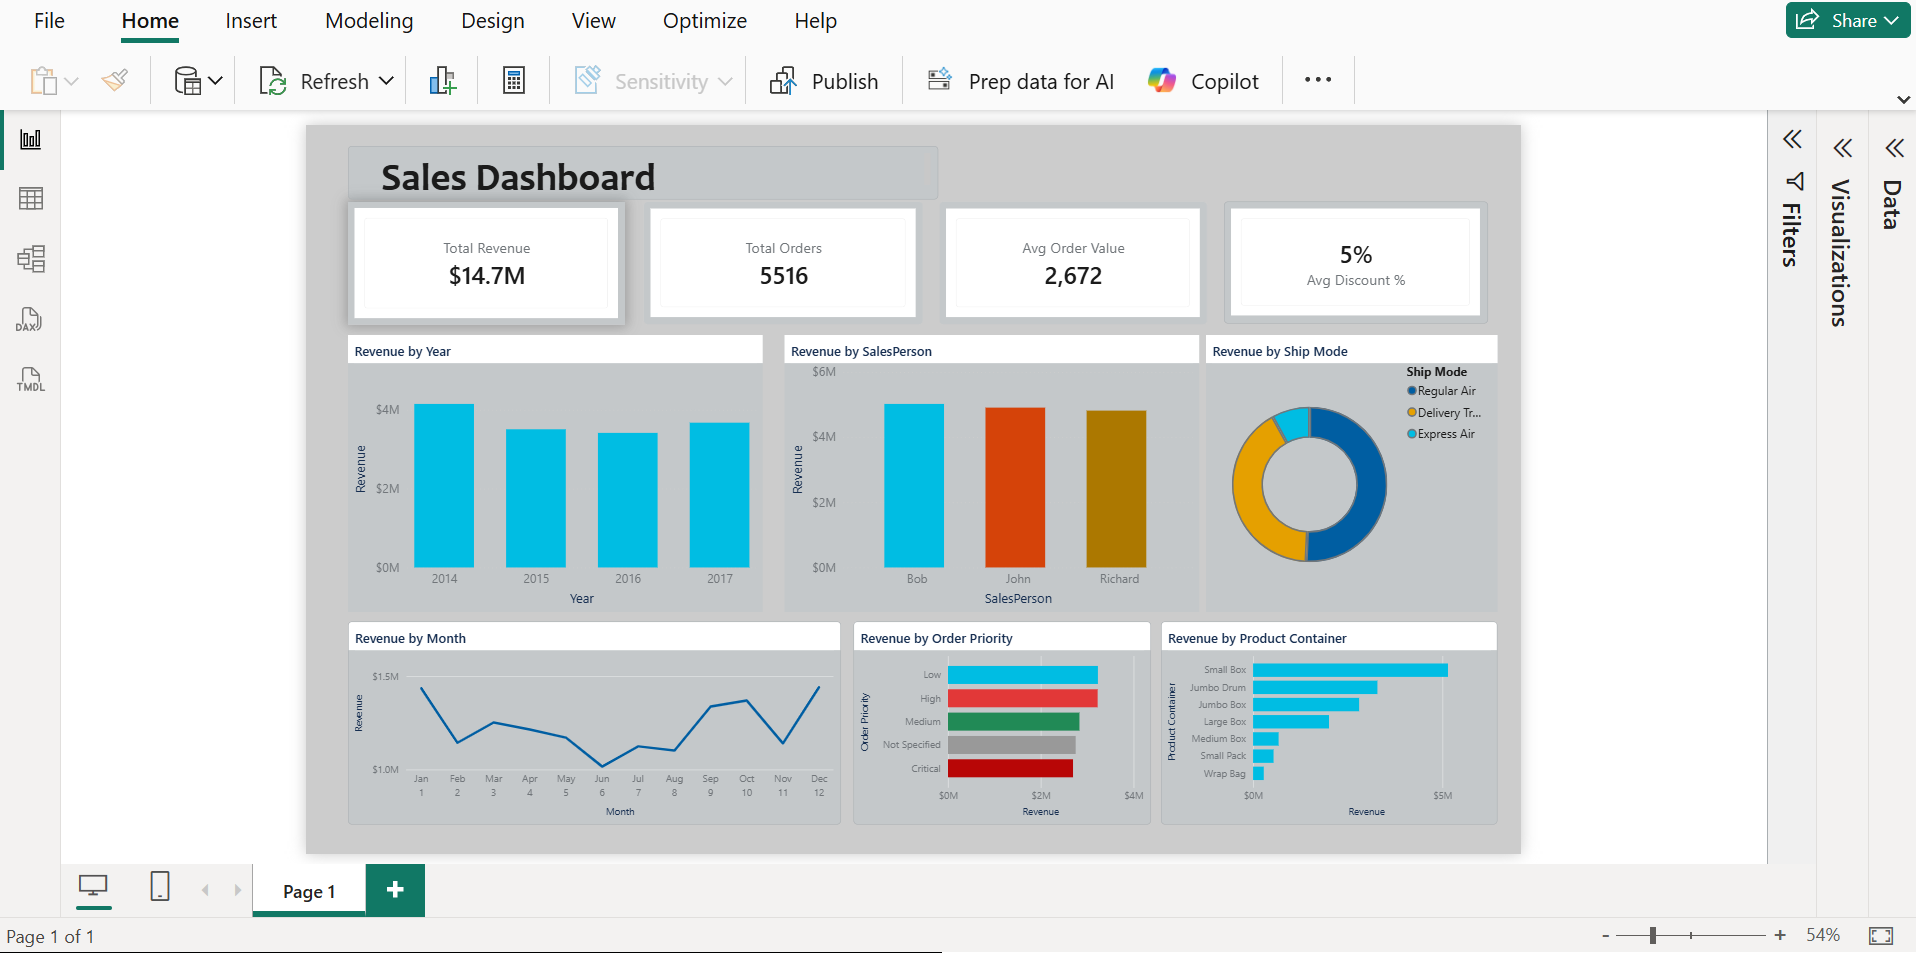

Layout of this report page (visuals, bound fields, positions):
{"tool":"powerbi","page":{"name":"Page 1","canvas":[1500,900],"ordinal":0},"visuals":[{"type":"cardVisual","fields":{"Data":["FactSales.Total Revenue"]},"box":[51.9,94.9,342,152.2],"z":0},{"type":"cardVisual","fields":{"Data":["FactSales.Total Orders"]},"box":[417.2,94.9,345.6,152.2],"z":1000},{"type":"cardVisual","fields":{"Data":["FactSales.Avg Order Value"]},"box":[780.7,94.9,331.2,152.2],"z":2000},{"type":"textbox","box":[51.9,25.1,728.7,66.2],"z":3000},{"type":"cardVisual","fields":{"Data":["FactSales.Avg Discount %"]},"box":[1133.4,94.9,325.9,150.4],"z":4000},{"type":"clusteredColumnChart","fields":{"Category":["DateDim.Year"],"Y":["FactSales.Total Revenue"]},"box":[51.9,259.6,512.1,342],"z":5000},{"type":"clusteredColumnChart","fields":{"Category":["FactSales.SalesPerson"],"Y":["FactSales.Total Revenue"]},"box":[590.9,259.6,512.1,342],"z":6000},{"type":"lineChart","title":"Revenue by Month","fields":{"Category":["DateDim.Month","DateDim.Month_Abbr"],"Y":["FactSales.Total Revenue"]},"box":[51.9,612.3,608.8,250.7],"z":7000},{"type":"donutChart","fields":{"Category":["FactSales.Ship Mode"],"Y":["FactSales.Total Revenue"]},"box":[1111.9,259.6,359.9,342],"z":8000},{"type":"barChart","fields":{"Category":["OrderPriorityDim.Order Priority"],"Y":["FactSales.Total Revenue"]},"box":[676.8,612.3,367.1,250.7],"z":9000},{"type":"barChart","fields":{"Category":["FactSales.Product Container"],"Y":["FactSales.Total Revenue"]},"box":[1056.4,612.3,415.4,250.7],"z":10000}]}

Visuals, with their boxes on the page's 1500x900 design canvas (x1, y1, x2, y2). These are canvas units, not pixel positions in the 1916x953 screenshot, which may show the page scaled, cropped or inside an application window:
cardVisual - FactSales.Total Revenue: 52/95/394/247
cardVisual - FactSales.Total Orders: 417/95/763/247
cardVisual - FactSales.Avg Order Value: 781/95/1112/247
textbox: 52/25/781/91
cardVisual - FactSales.Avg Discount %: 1133/95/1459/245
clusteredColumnChart - DateDim.Year x FactSales.Total Revenue: 52/260/564/602
clusteredColumnChart - FactSales.SalesPerson x FactSales.Total Revenue: 591/260/1103/602
"Revenue by Month" lineChart: 52/612/661/863
donutChart - FactSales.Ship Mode x FactSales.Total Revenue: 1112/260/1472/602
barChart - OrderPriorityDim.Order Priority x FactSales.Total Revenue: 677/612/1044/863
barChart - FactSales.Product Container x FactSales.Total Revenue: 1056/612/1472/863
